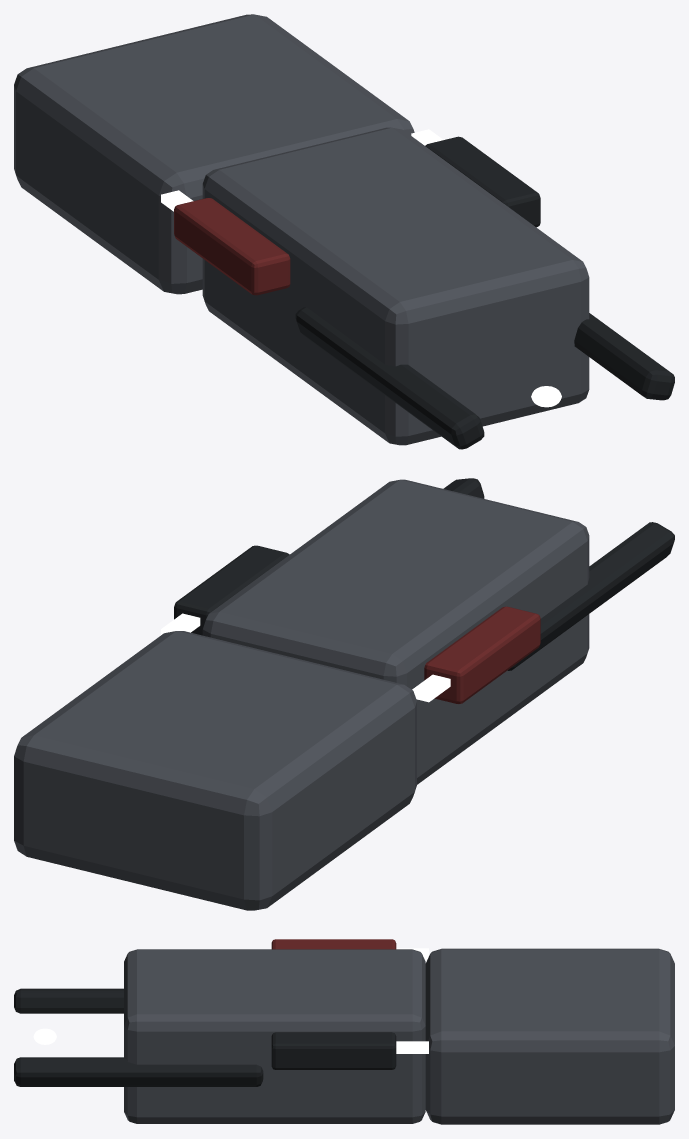
3 renders of one model, top to bottom at view 1: azimuth 30°, elevation 25°; view 2: azimuth 150°, elevation 25°; view 3: azimuth 270°, elevation 25°, orthographic. The views are drawn at different scales.
Visible parts, largest first — view 1: RIMWARD_HULL, RIMWARD_EMISSIVE; view 2: RIMWARD_HULL, RIMWARD_EMISSIVE; view 3: RIMWARD_HULL, RIMWARD_EMISSIVE, RIMWARD_ENGINE_GLOW.
Boxes of the visible parts, bbox=[...] form: RIMWARD_HULL: bbox=[14, 14, 674, 449]; RIMWARD_EMISSIVE: bbox=[161, 129, 443, 211]; RIMWARD_HULL: bbox=[14, 478, 674, 910]; RIMWARD_EMISSIVE: bbox=[161, 613, 450, 702]; RIMWARD_HULL: bbox=[14, 939, 674, 1124]; RIMWARD_EMISSIVE: bbox=[396, 948, 428, 1053]; RIMWARD_ENGINE_GLOW: bbox=[33, 1028, 56, 1044].
Bounding box in the file's own units: 2.79 × 1.32 × 7.25.
